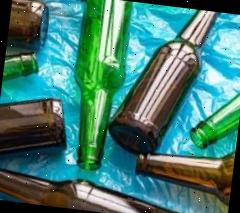glass: (103, 0, 225, 163), (60, 0, 133, 175), (0, 161, 201, 213), (131, 147, 234, 208), (0, 91, 70, 164), (190, 77, 240, 150)
